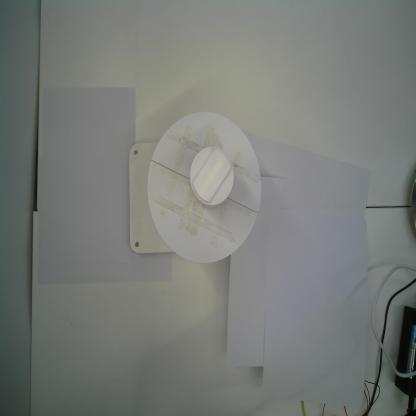Canned Food: (188, 146, 237, 209)
